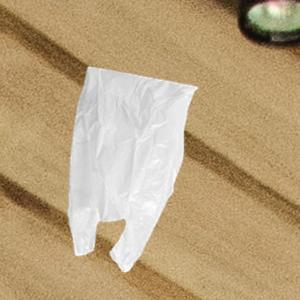plastic_bag: (64, 62, 200, 274)
